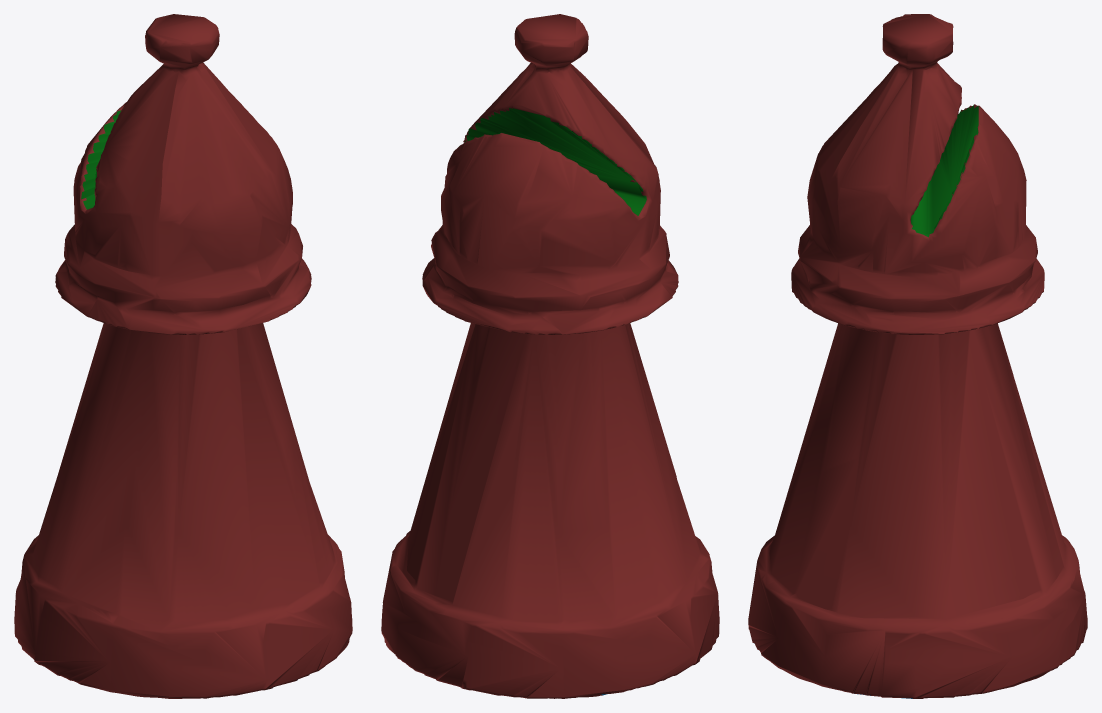
File: Enemy team Bishop.fbx
3 views of the same model, side by side, from view 1: azimuth 30°, elevation 25°; view 2: azimuth 150°, elevation 25°; view 3: azimuth 270°, elevation 25° (orthographic).
Visible parts, largest first — view 1: Cylinder.001; view 2: Cylinder.001; view 3: Cylinder.001.
Part boxes in pixels (bbox=[...]): Cylinder.001: bbox=[14, 14, 352, 698]; Cylinder.001: bbox=[381, 14, 719, 698]; Cylinder.001: bbox=[748, 14, 1087, 698].
Size of the model in its own units: 387 by 387 by 754.
